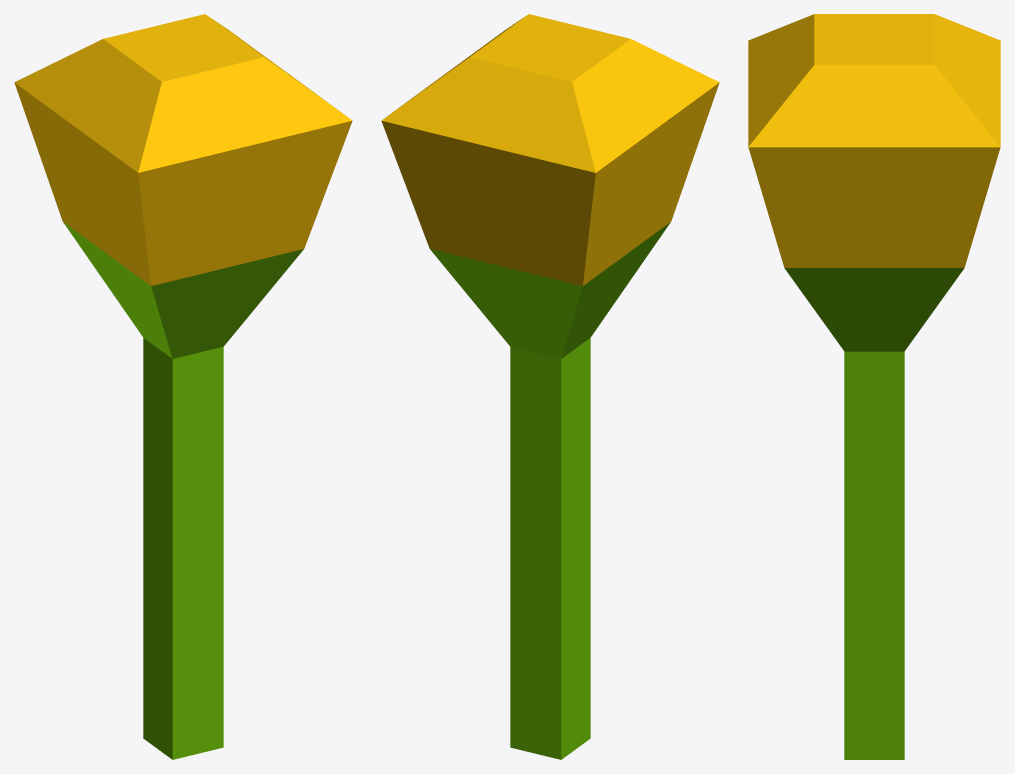
Rendered from Sprout_Y.fbx.
3 renders of one model, left to right at view 1: azimuth 30°, elevation 25°; view 2: azimuth 150°, elevation 25°; view 3: azimuth 270°, elevation 25°, orthographic.
Visible parts, largest first — view 1: Flower_01_Bud; view 2: Flower_01_Bud; view 3: Flower_01_Bud.
Boxes of the visible parts, bbox=[...] form: Flower_01_Bud: bbox=[14, 14, 352, 759]; Flower_01_Bud: bbox=[381, 14, 719, 759]; Flower_01_Bud: bbox=[748, 14, 1000, 759].
Bounding box in the file's own units: 5.04 × 15.6 × 5.04.
1 material, 1 textured.
